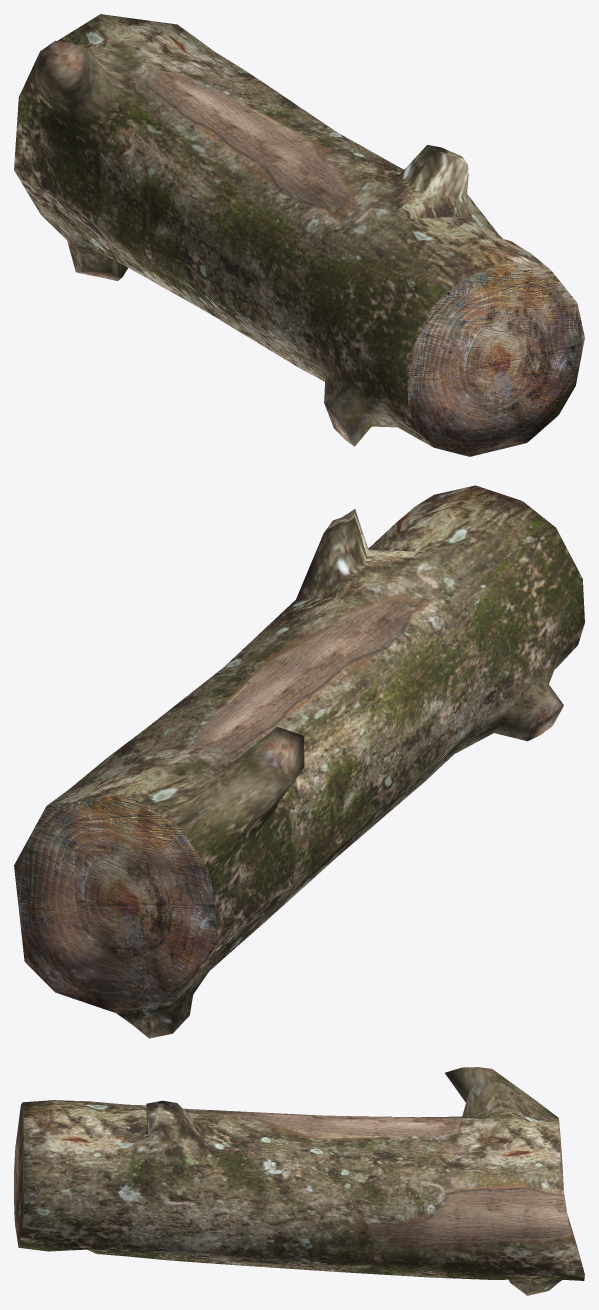
The model's file is Log.fbx.
3 renders of one model, top to bottom at view 1: azimuth 30°, elevation 25°; view 2: azimuth 150°, elevation 25°; view 3: azimuth 270°, elevation 25°, orthographic. The views are drawn at different scales.
Visible parts, largest first — view 1: Log; view 2: Log; view 3: Log.
Boxes of the visible parts, x1,y1,x2,y2 form: Log: (14, 14, 584, 456); Log: (14, 485, 584, 1038); Log: (14, 1067, 584, 1295).
Size of the model in its own units: 72.63 by 96.1 by 231.
1 material, 1 textured.
